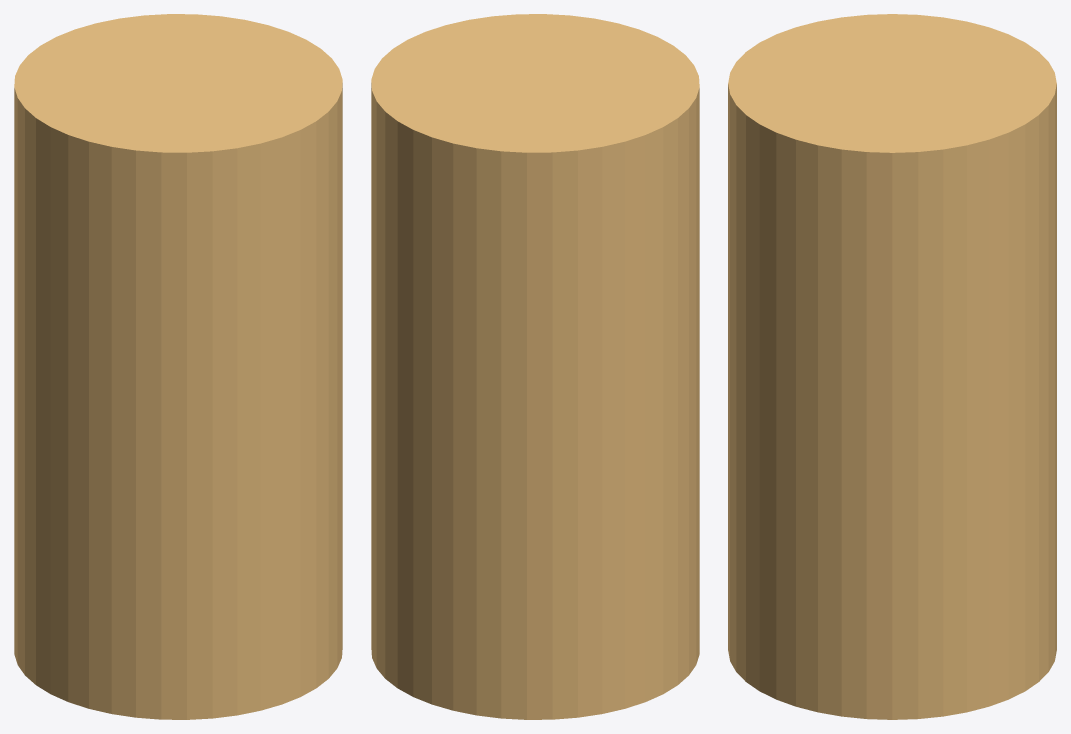
File: med_pill_bottle_0075.glb
3 views of the same model, side by side, from view 1: azimuth 30°, elevation 25°; view 2: azimuth 150°, elevation 25°; view 3: azimuth 270°, elevation 25° (orthographic).
Visible parts, largest first — view 1: z-up-to-y-up; view 2: z-up-to-y-up; view 3: z-up-to-y-up.
Boxes of the visible parts, x1,y1,x2,y2 form: z-up-to-y-up: [14, 14, 342, 719]; z-up-to-y-up: [371, 14, 699, 719]; z-up-to-y-up: [728, 14, 1056, 719].
Size of the model in its own units: 0.0458 by 0.0871 by 0.0458.
